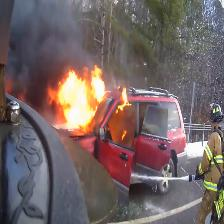fire: (27, 58, 137, 153)
smoke: (8, 0, 93, 83)
